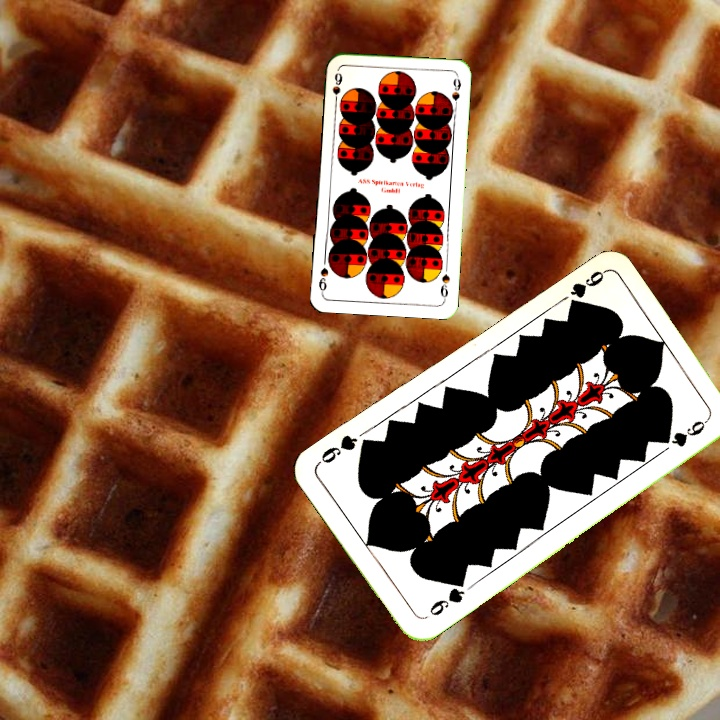G9: (425, 575, 467, 619), (566, 266, 607, 300)
S9: (328, 69, 345, 108), (436, 270, 452, 303)
